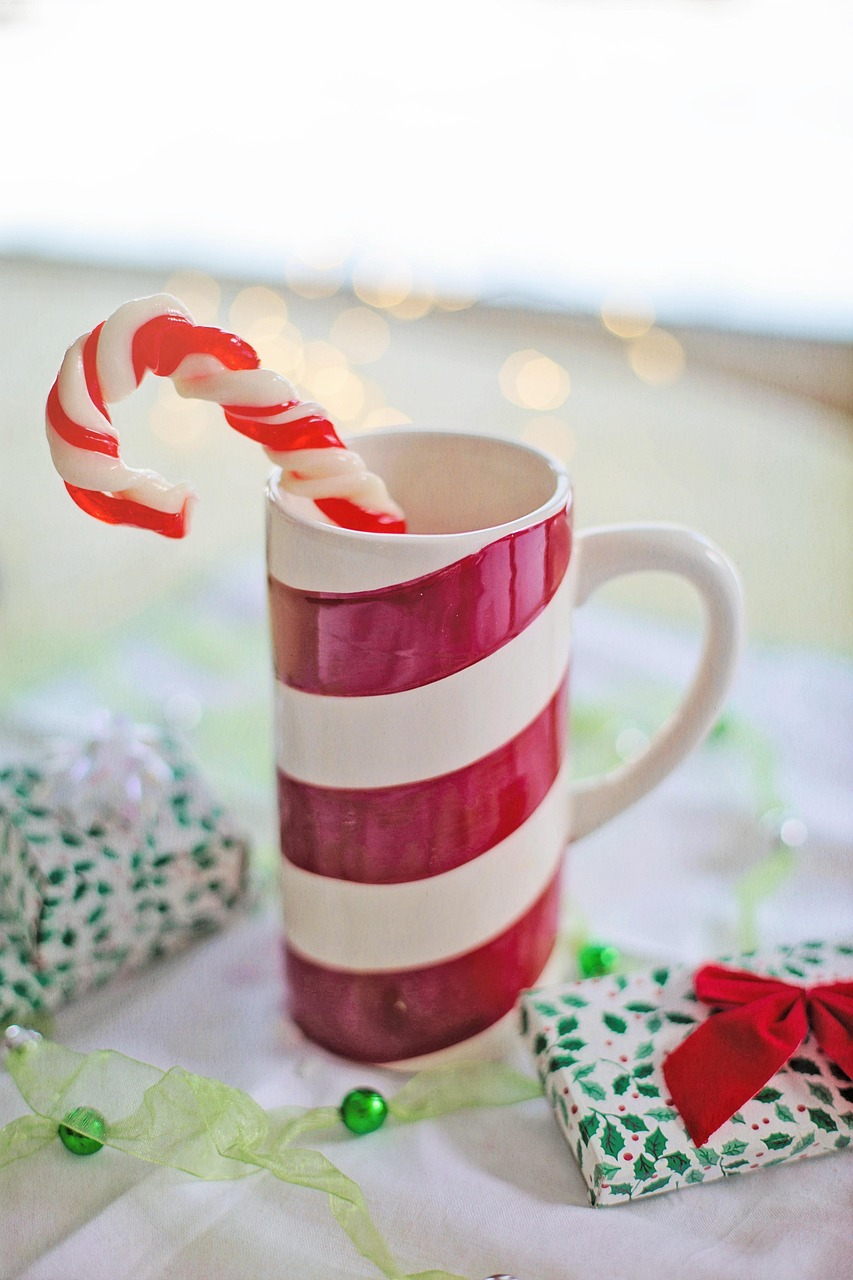mug: (124, 343, 786, 1174)
